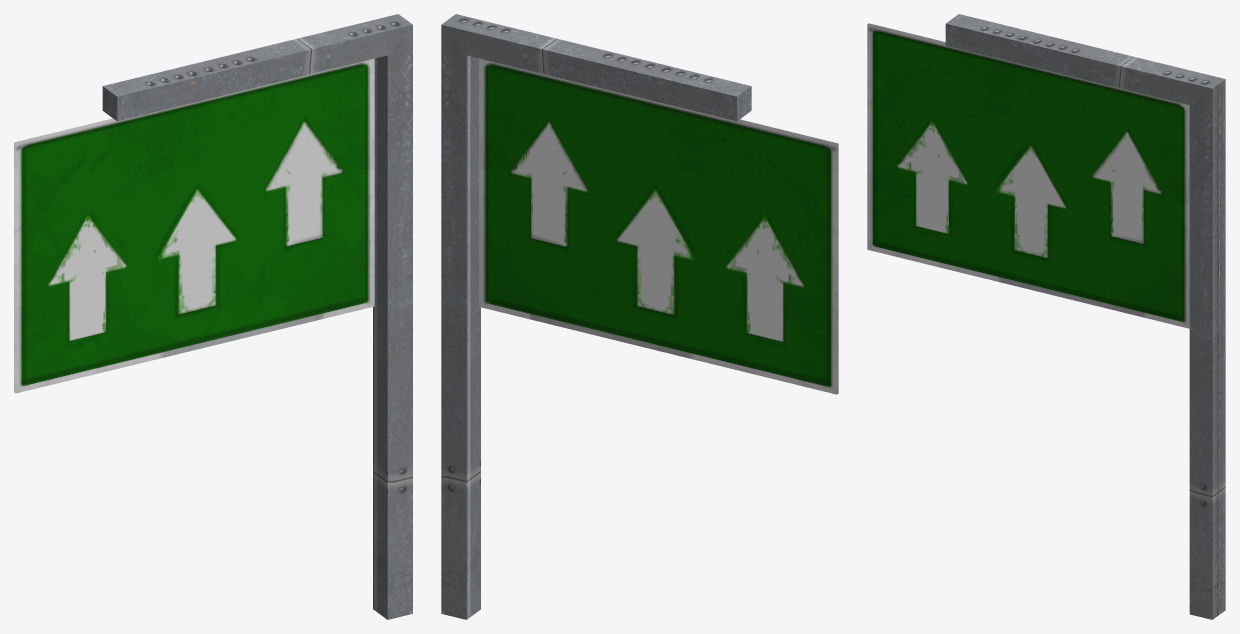
The model's file is sign_mid1.fbx.
3 renders of one model, left to right at view 1: azimuth 30°, elevation 25°; view 2: azimuth 150°, elevation 25°; view 3: azimuth 330°, elevation 25°, orthographic. The views are drawn at different scales.
Parts seen in each view (by area): view 1: sign_mid1; view 2: sign_mid1; view 3: sign_mid1.
Boxes of the visible parts, box(x1,y1,x2,y2) form: sign_mid1: box(14, 14, 412, 619); sign_mid1: box(441, 14, 838, 619); sign_mid1: box(867, 14, 1225, 619).
Size of the model in its own units: 462 by 667 by 29.91.
